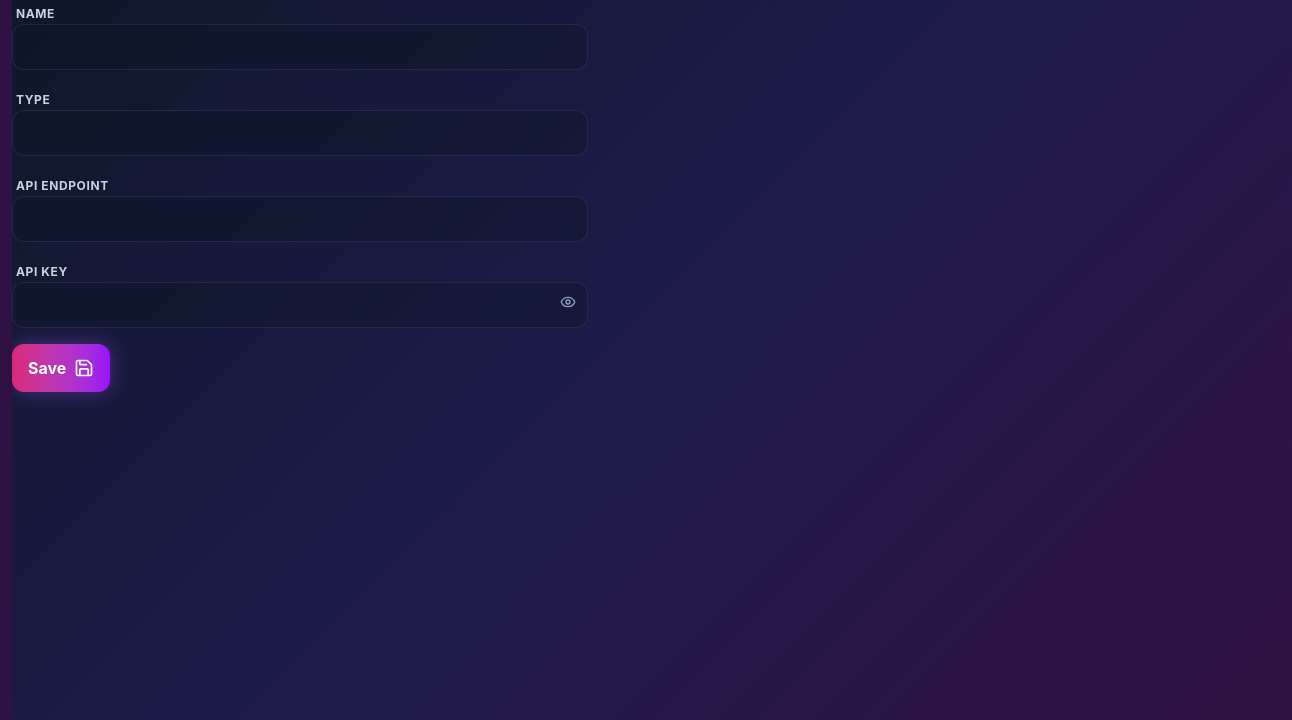
it: RewardItemSourceForm › masks the API key and toggles visibility for newly entered values
Type "secret" into the password field at (300, 305), box [12, 282, 588, 328]
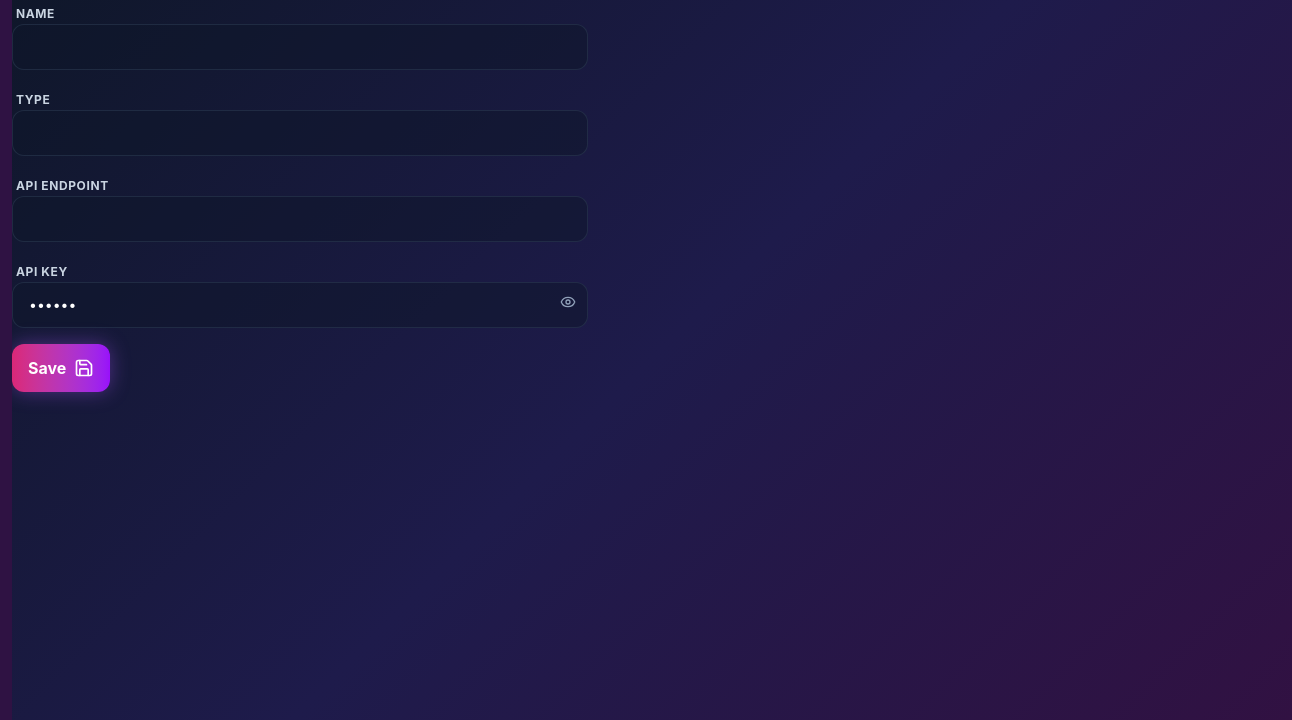
Click the button named "show api key" at (568, 302), box [560, 294, 576, 310]
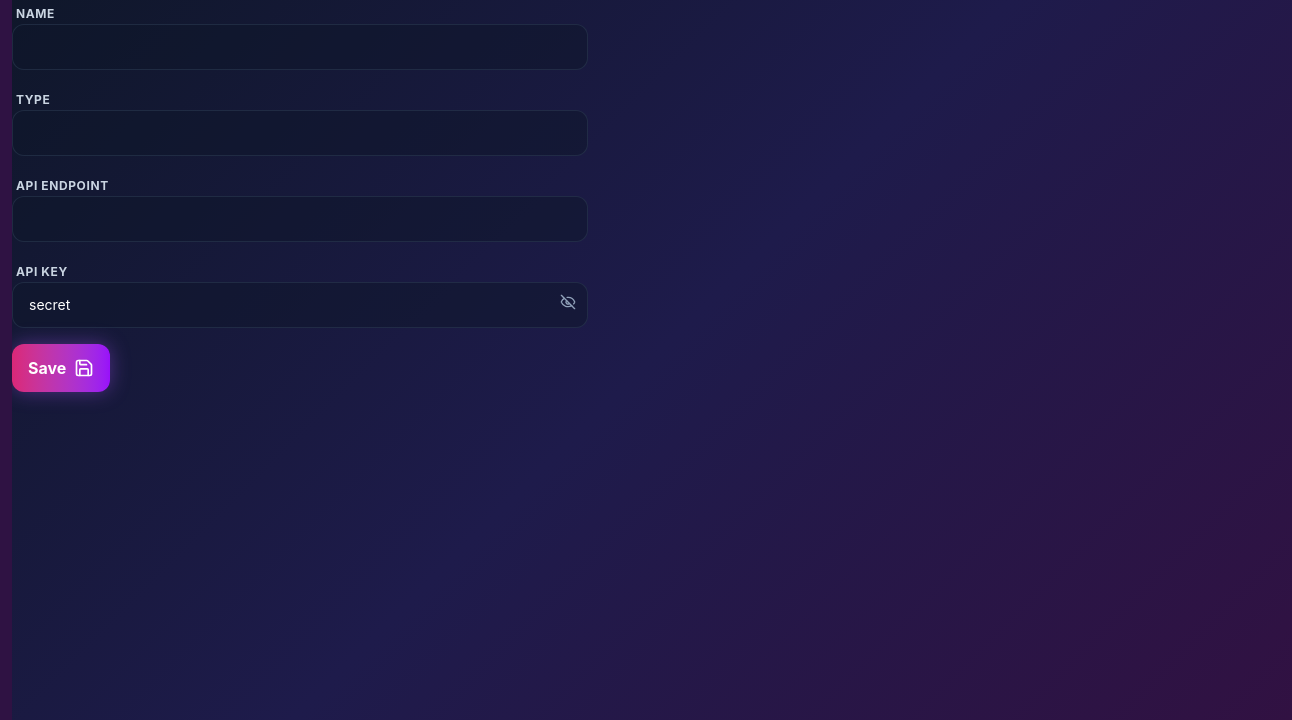
expect the field below "API Key" shows its text: met, box [12, 282, 588, 328]
Click the button named "hide api key" at (568, 302), box [560, 294, 576, 310]
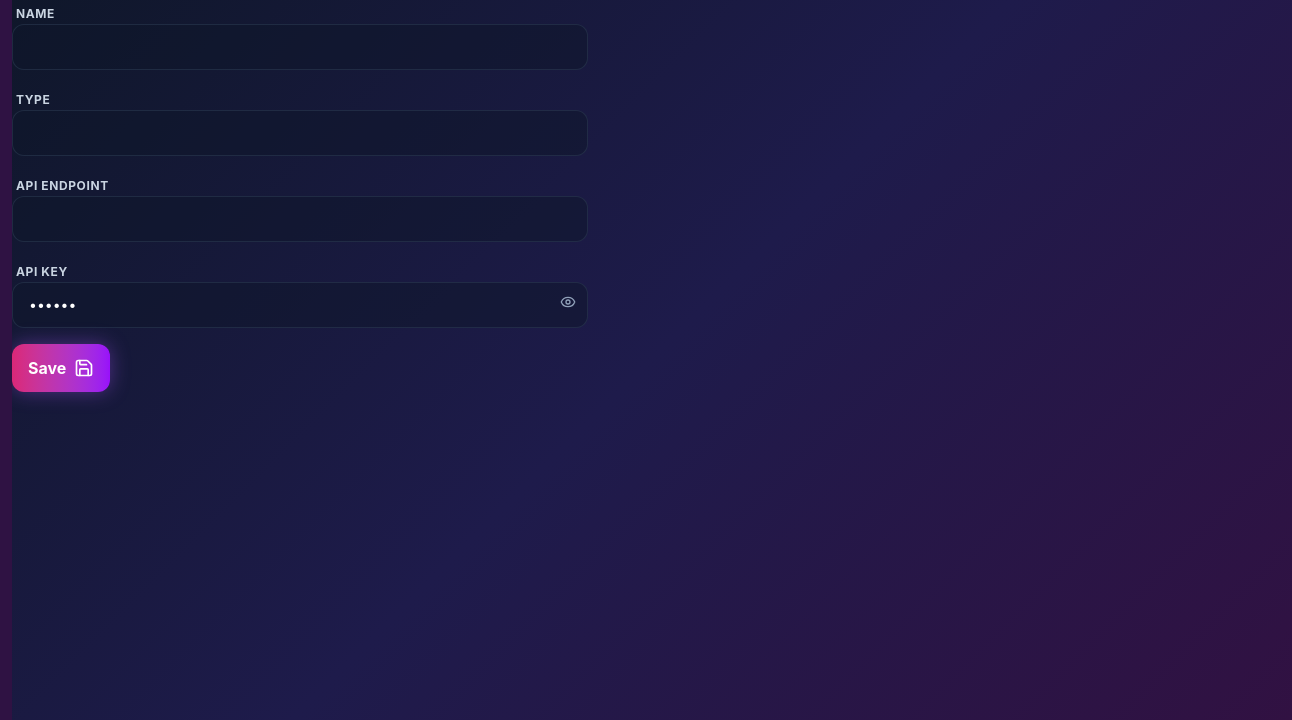
expect the password field hides its text: met, box [12, 282, 588, 328]
